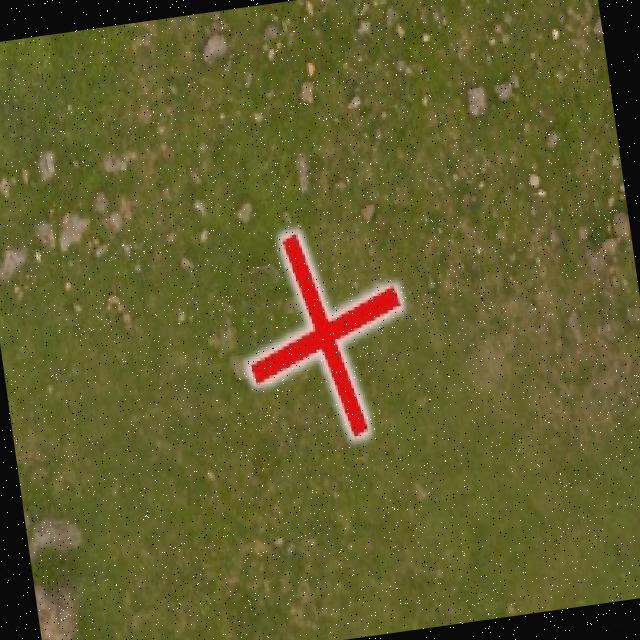x_marker: (232, 220, 416, 448)
